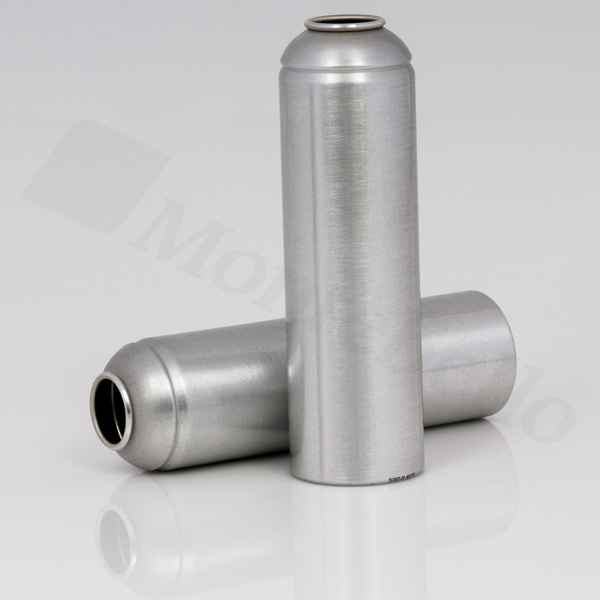metal: (88, 289, 519, 473), (277, 12, 426, 489)
